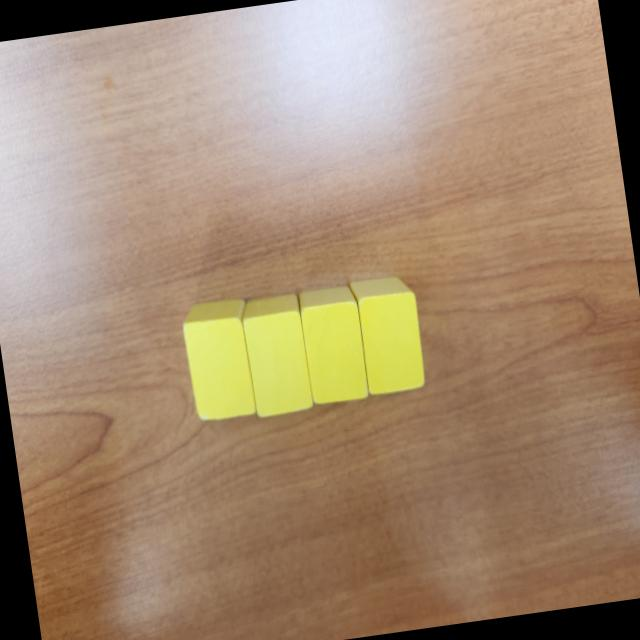yellow: (179, 296, 261, 424), (347, 274, 429, 398), (240, 292, 316, 420), (296, 284, 372, 406)
